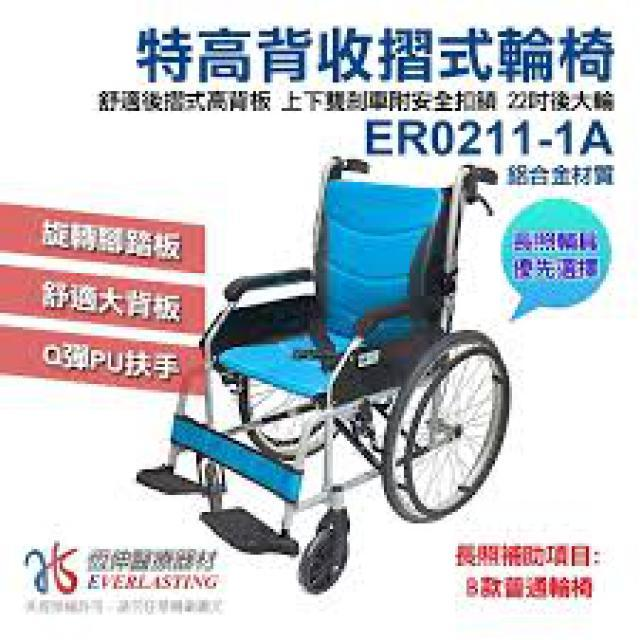wheelchair: (122, 153, 506, 594)
